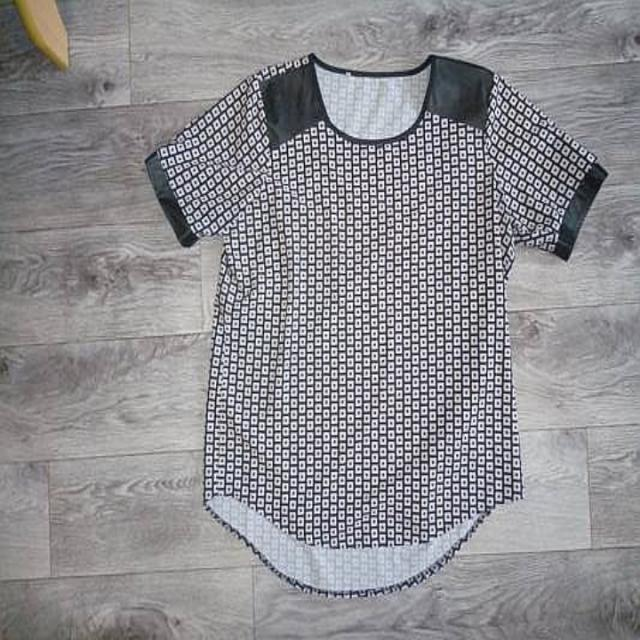T_SHIRT: (128, 40, 610, 601)
